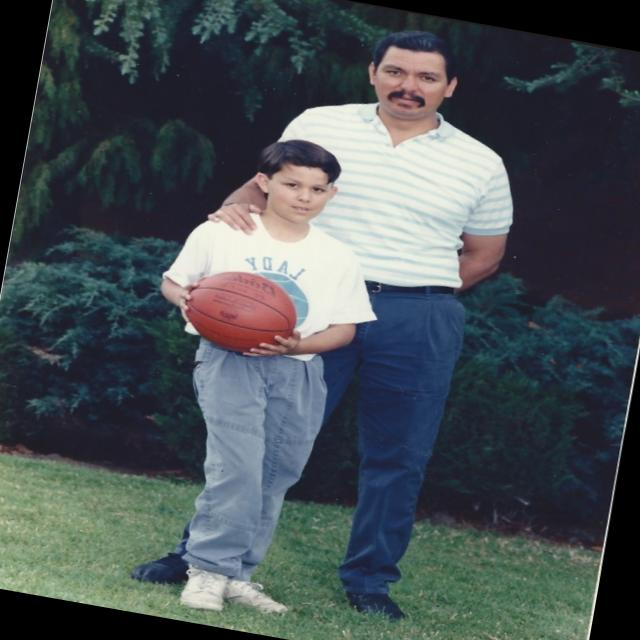Ball: (175, 262, 300, 364)
